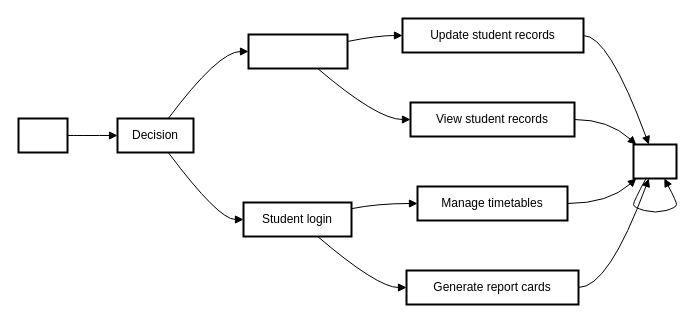
The diagram is 694 pixels wide and 322 high, and some of its shapes have lost their labels. The shapes that lost their labels are listed below. From the top down, each one's box as (x1, y1, x2, y2) in pixels, then its label:
(247, 33, 348, 69): Admin login
(17, 117, 68, 153): Start
(632, 143, 677, 179): End
